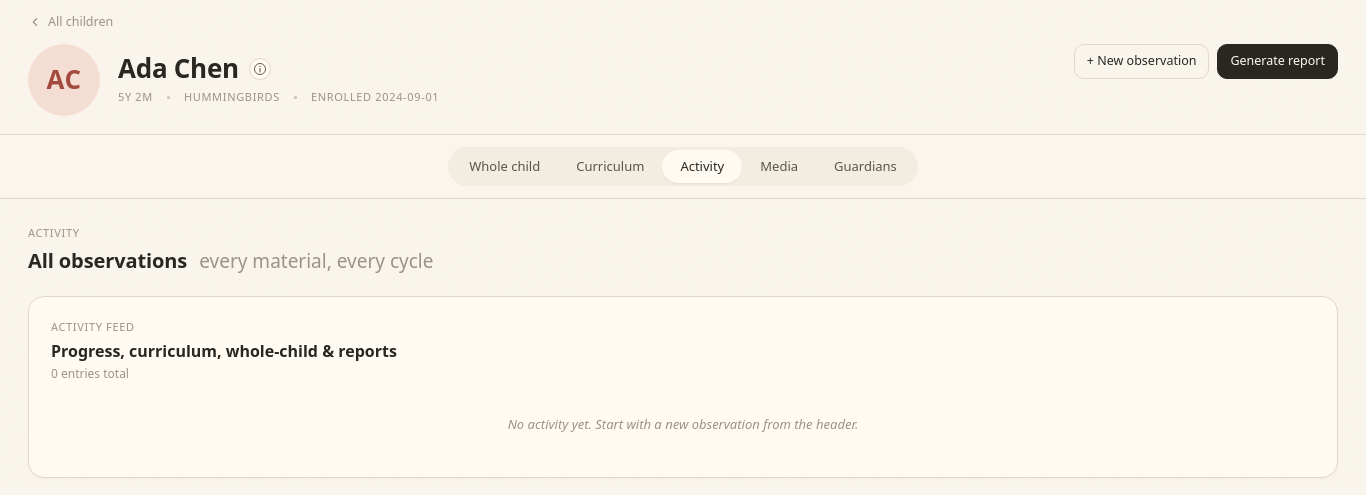
Test: ChildDetail › shows guardian details only after selecting the Guardians tab
Expected: the text "Family contacts" is not shown
Click the tab "Guardians": (865, 167) x1=816 y1=150 x2=915 y2=183
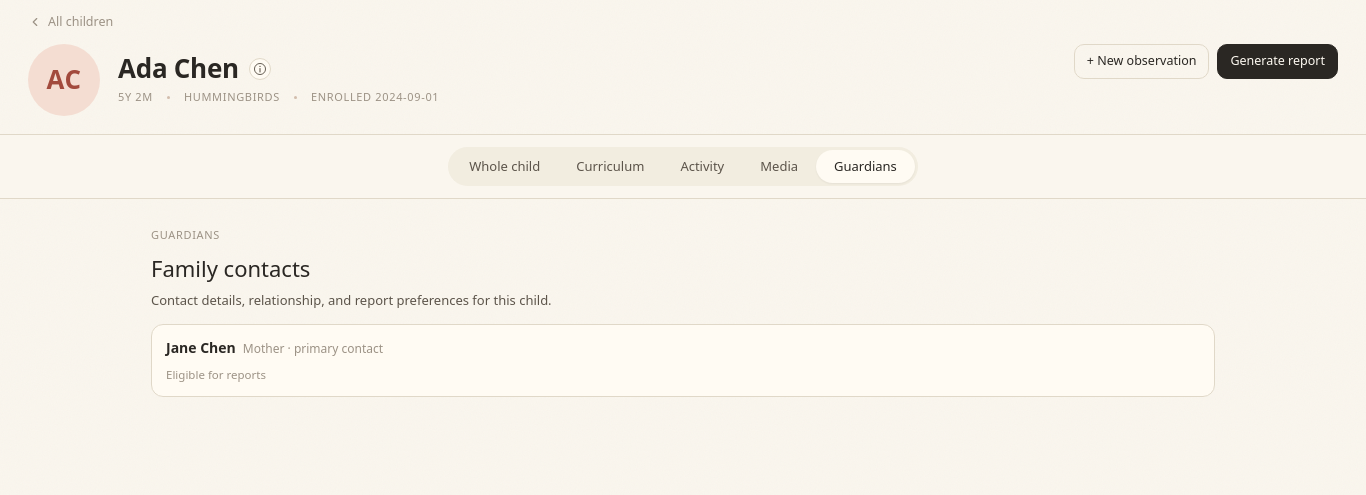
Now the heading "Family contacts" is shown, box x1=151 y1=253 x2=310 y2=283
Now the text "Jane Chen" is shown, box x1=166 y1=337 x2=236 y2=358
